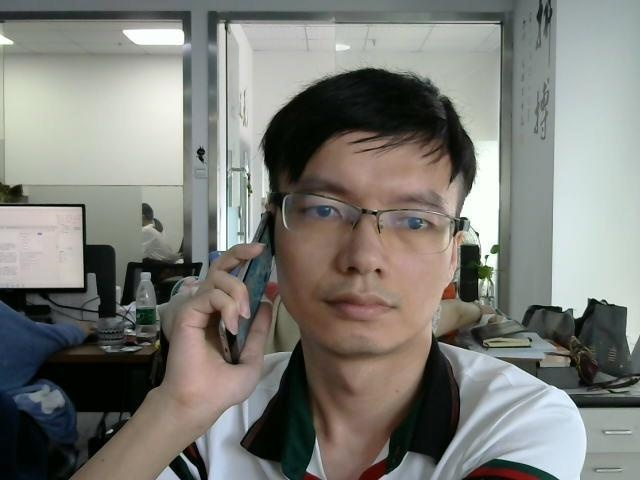hand: (171, 249, 272, 397)
